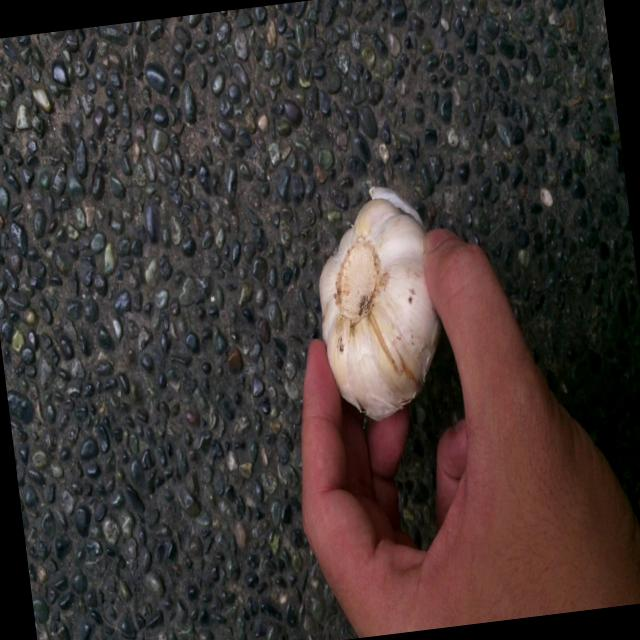bawang: (298, 179, 464, 434)
